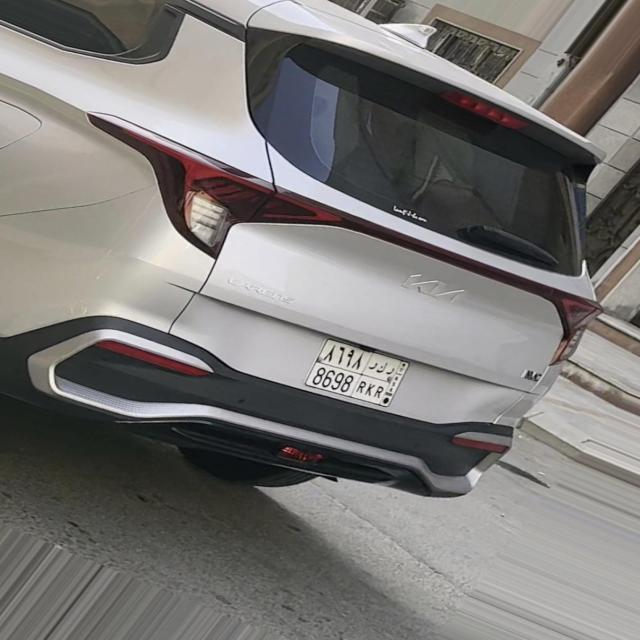Car-plate: (293, 329, 423, 415)
